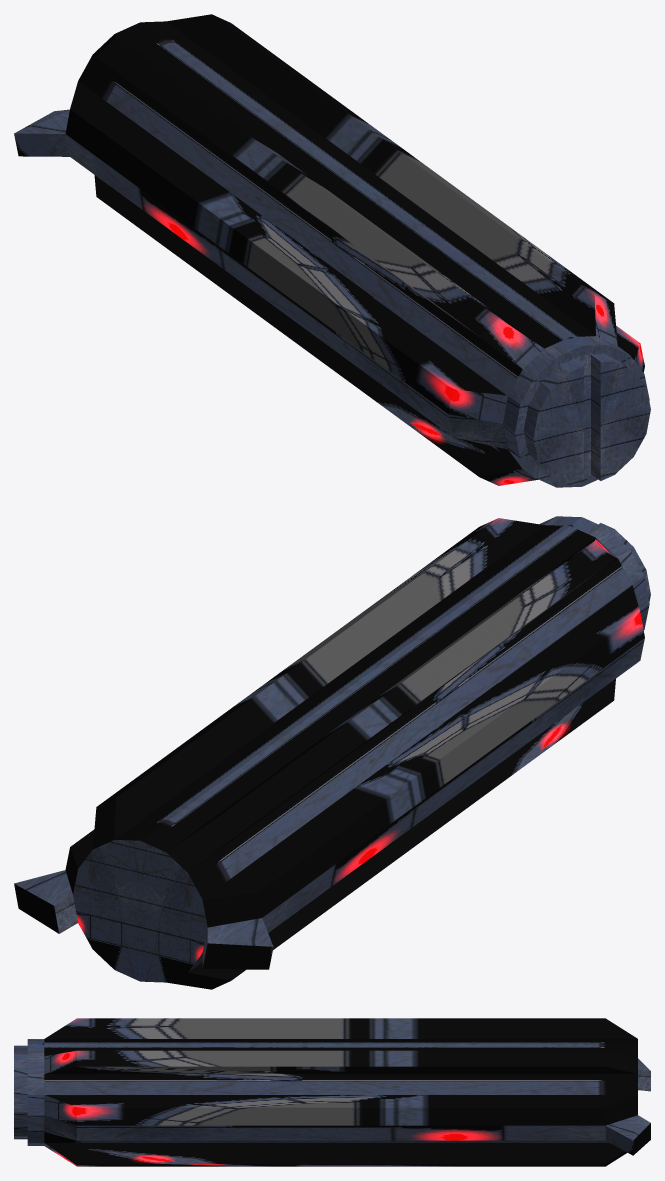
The model's file is Goldfish.fbx.
The picture shows the model from 3 angles, top to bottom: view 1: azimuth 30°, elevation 25°; view 2: azimuth 150°, elevation 25°; view 3: azimuth 270°, elevation 25°; orthographic projection. The views are drawn at different scales.
Visible parts, largest first — view 1: Goldfish; view 2: Goldfish; view 3: Goldfish.
Part boxes in pixels (box(x1,y1,x2,y2)): Goldfish: box(14, 14, 650, 487); Goldfish: box(14, 516, 650, 989); Goldfish: box(14, 1018, 650, 1166).
Size of the model in its own units: 19.04 by 11.78 by 58.62.
Materials: 1 (1 with a texture image).
